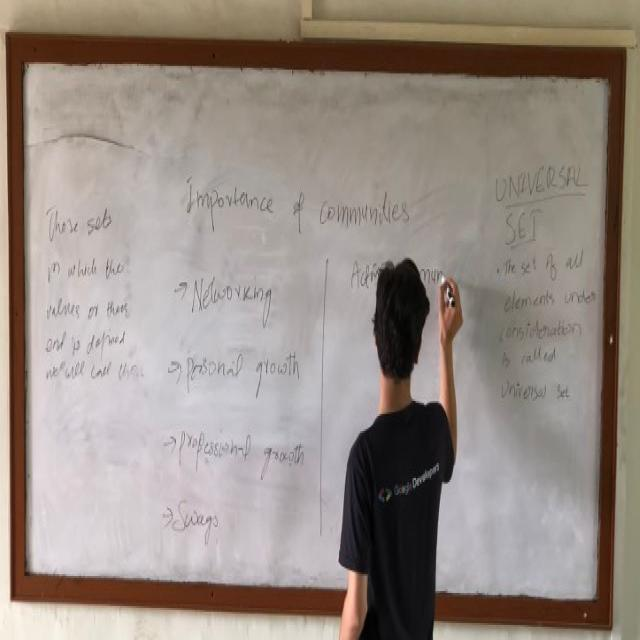Instructor: (342, 268, 444, 640)
White-board: (14, 39, 621, 618)
